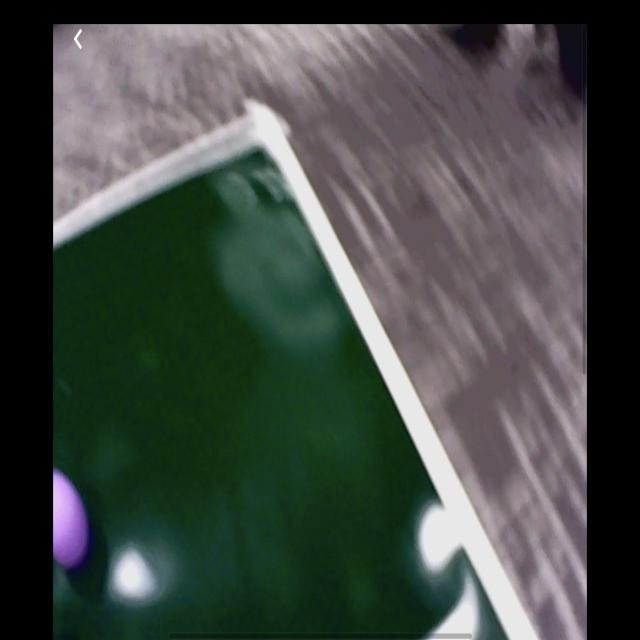ball: (53, 467, 91, 573)
